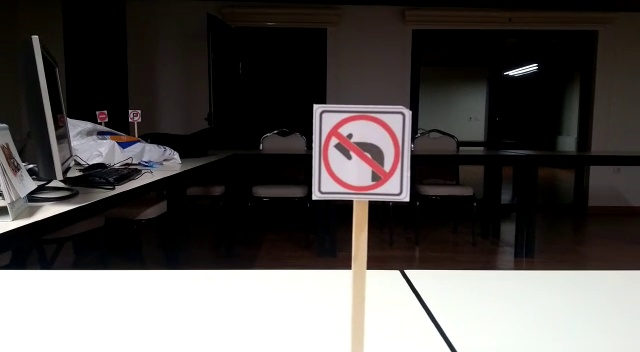sola_donulmez: (318, 111, 403, 191)
